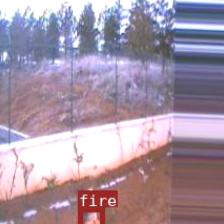fire: (77, 206, 103, 224)
